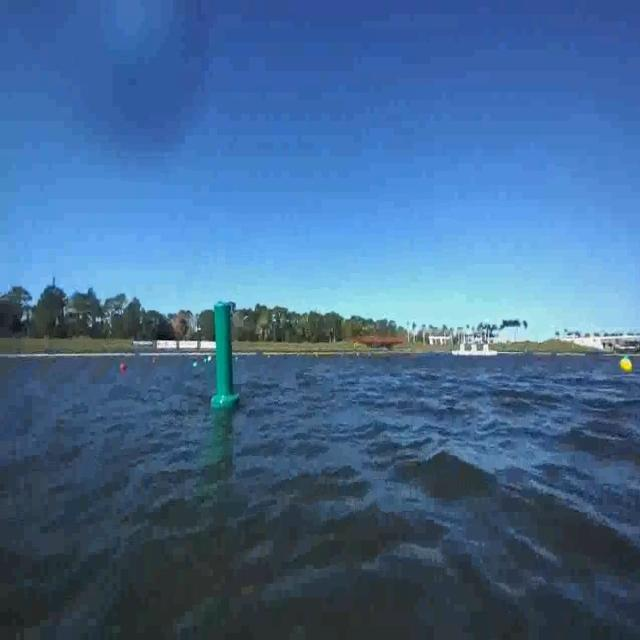green-column-buoy: (210, 299, 240, 409)
yellow-buoy: (620, 354, 634, 374)
